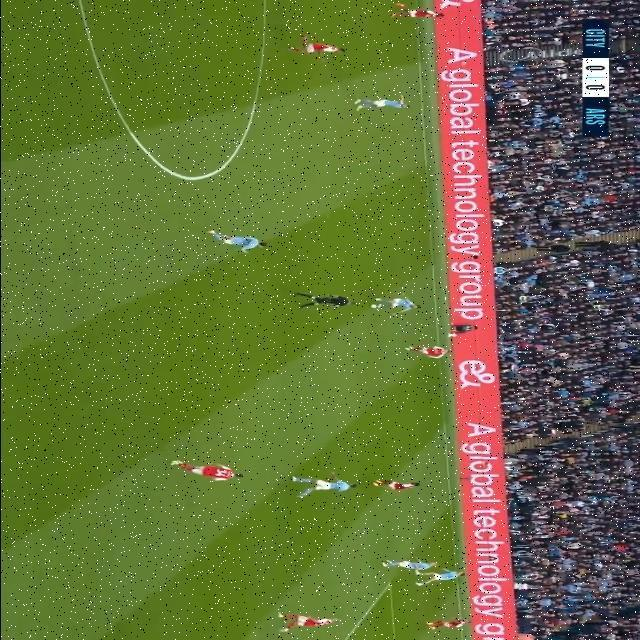player: (276, 469, 362, 499), (165, 457, 253, 484), (261, 608, 349, 630), (384, 3, 450, 31), (401, 565, 466, 591), (289, 36, 364, 58), (366, 297, 422, 325), (204, 230, 266, 252), (398, 340, 448, 366), (367, 476, 421, 500), (357, 93, 409, 115), (412, 618, 471, 632), (382, 561, 440, 571)
referee: (286, 286, 358, 311)
